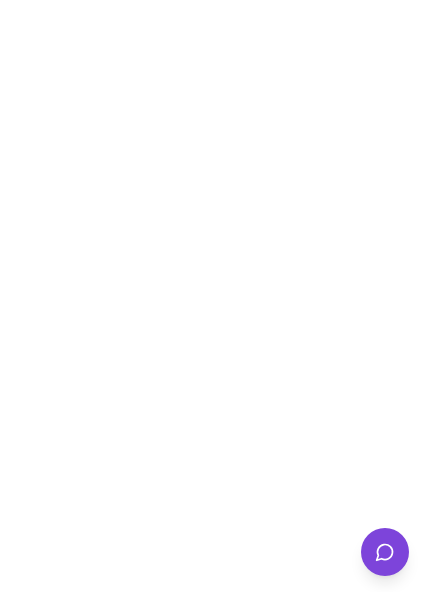
Test: GlobalChatDock — unified › shows error state when unified list fails
The image size is (425, 592).
Click the button with test id "global-chat-launcher" at (385, 552), box [361,528,409,576]
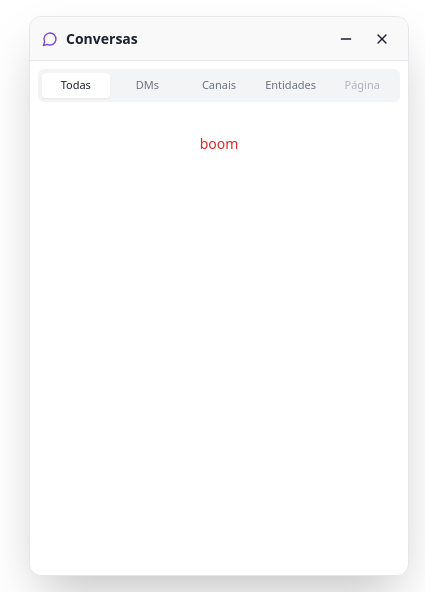
Expected: the text with test id "global-chat-error" reads "boom", [200,134,238,152]
